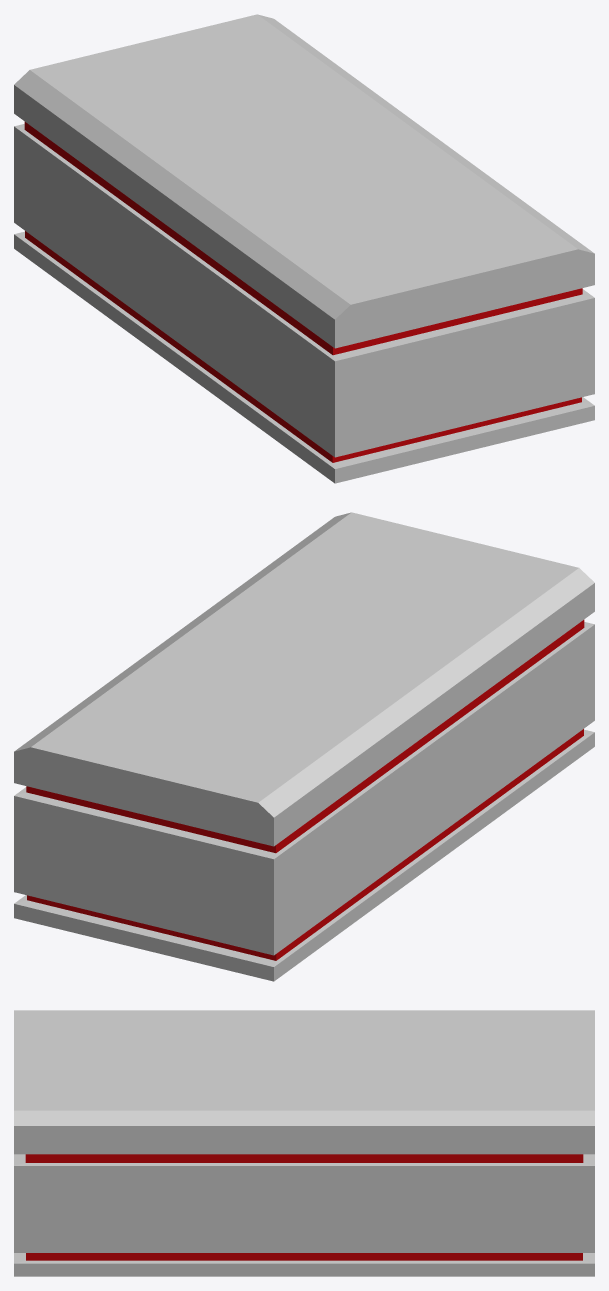
The model's file is Chest.fbx.
3 renders of one model, top to bottom at view 1: azimuth 30°, elevation 25°; view 2: azimuth 150°, elevation 25°; view 3: azimuth 270°, elevation 25°, orthographic. The views are drawn at different scales.
Visible parts, largest first — view 1: Cube; view 2: Cube; view 3: Cube.
Part boxes in pixels (x1,y1,x2,y2): Cube: [14, 14, 594, 483]; Cube: [14, 512, 594, 981]; Cube: [14, 1010, 594, 1276].
Bounding box in the file's own units: 200 × 129 × 428.
